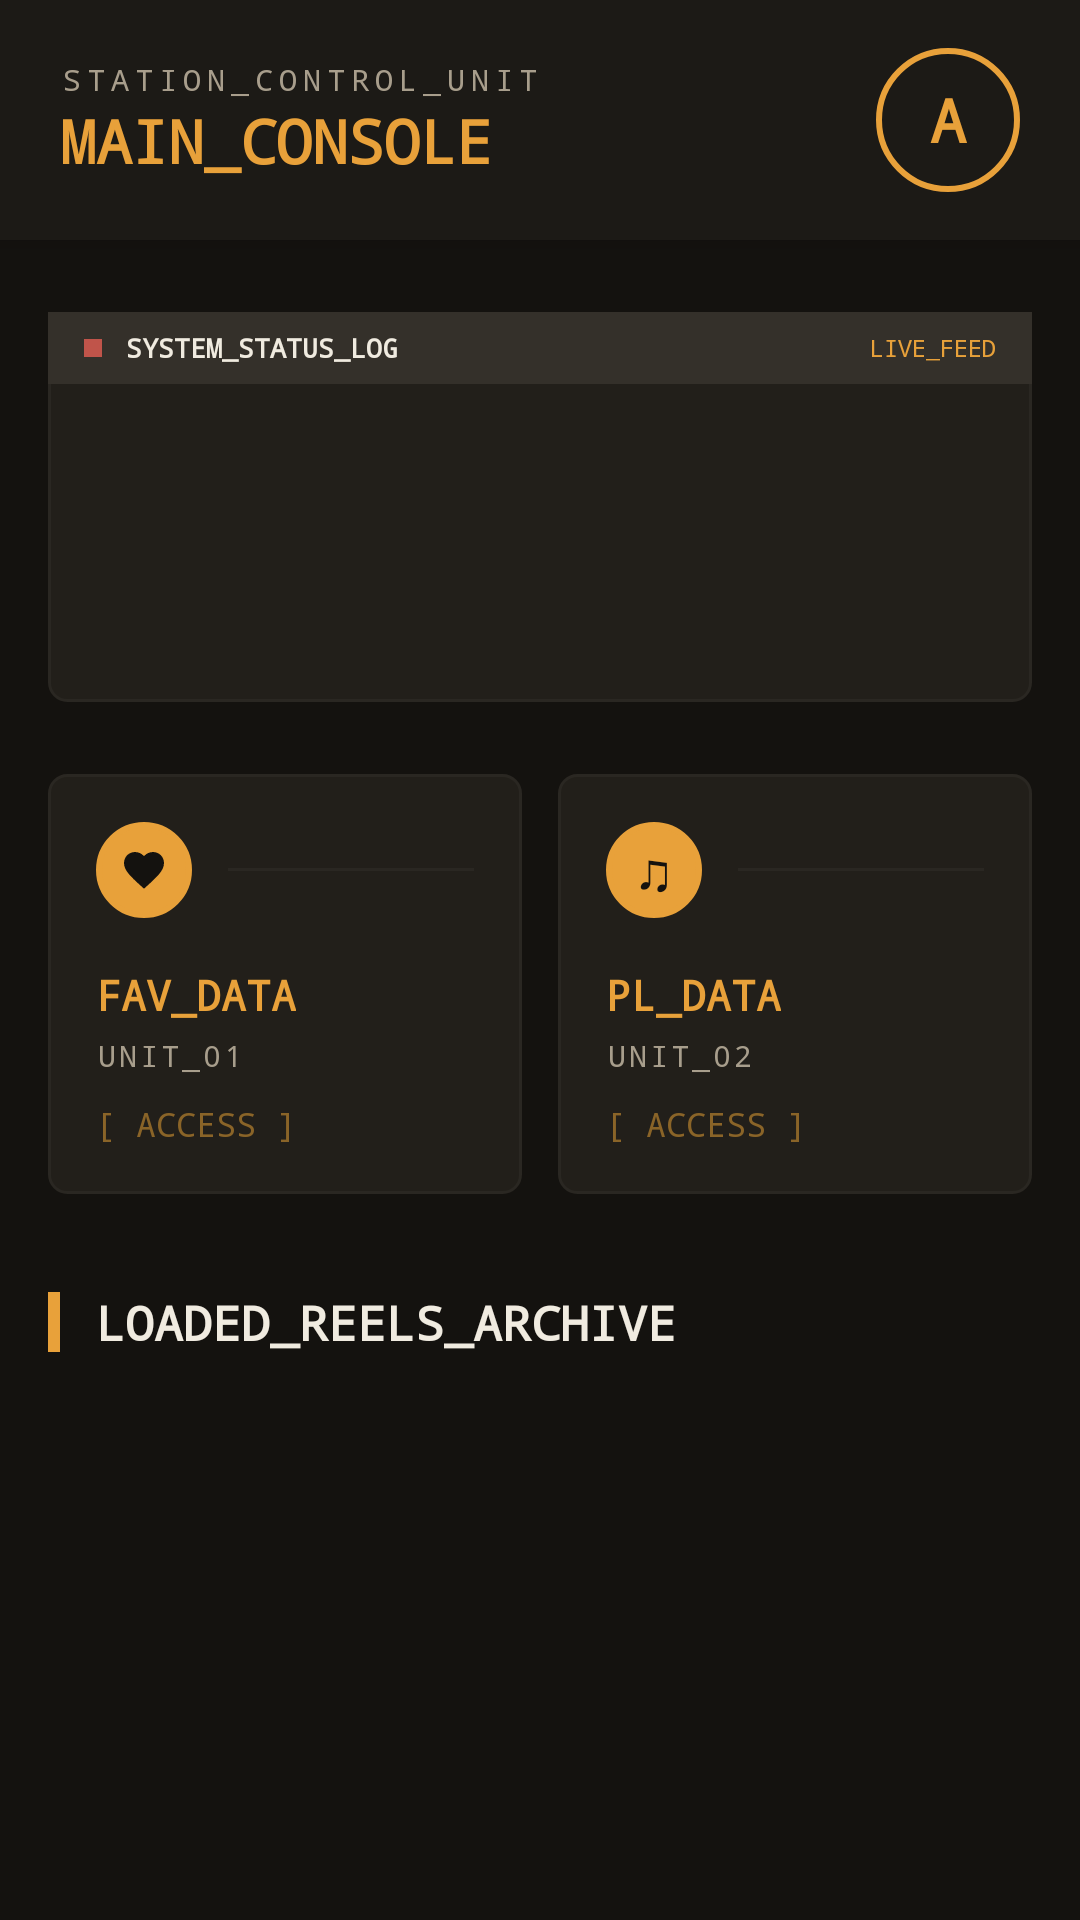

Where to tap for icons on this 1080x1920 app screen, as (x=x, y=y):
Ulubione: (x=144, y=870)
